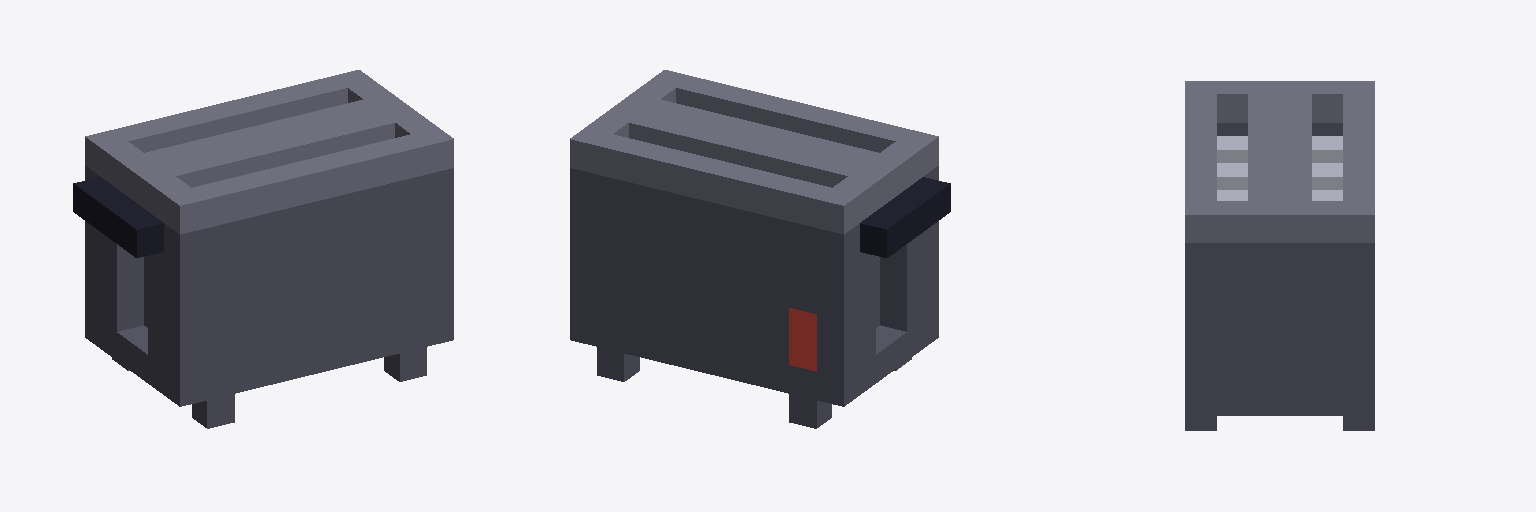
The picture shows the model from 3 angles: view 1: azimuth 30°, elevation 25°; view 2: azimuth 150°, elevation 25°; view 3: azimuth 270°, elevation 25°; orthographic projection.
Parts seen in each view (by area): view 1: Toaster_Toaster.001; view 2: Toaster_Toaster.001; view 3: Toaster_Toaster.001.
Part boxes in pixels (left/top/right/bottom): Toaster_Toaster.001: left=73, top=70, right=453, bottom=428; Toaster_Toaster.001: left=570, top=70, right=950, bottom=428; Toaster_Toaster.001: left=1185, top=81, right=1374, bottom=430.
Size of the model in its own units: 1.1 by 0.8 by 0.6.
1 materials, 1 textured.